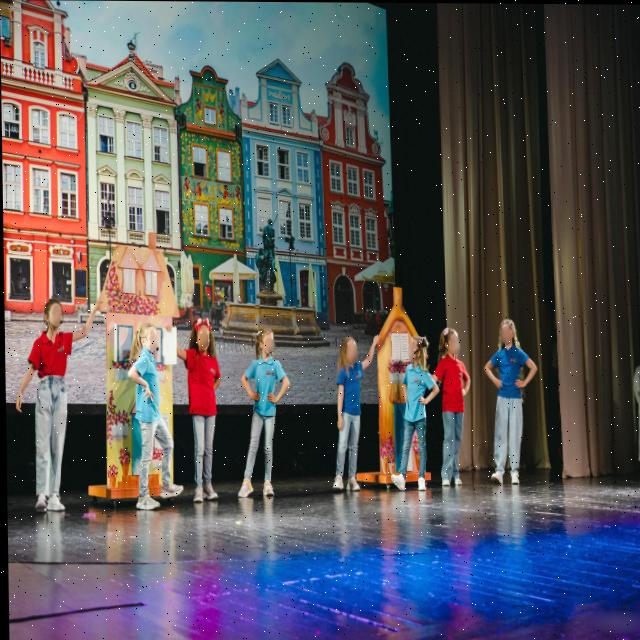Person: (19, 288, 86, 524), (320, 308, 385, 505), (121, 318, 182, 519), (229, 323, 295, 508), (482, 306, 539, 494), (384, 322, 441, 500), (184, 310, 229, 512), (431, 320, 477, 488)
